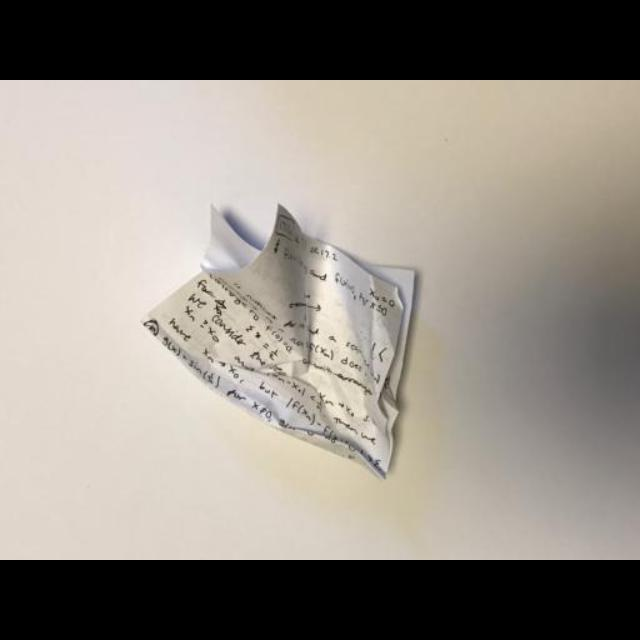papel: (140, 198, 418, 478)
